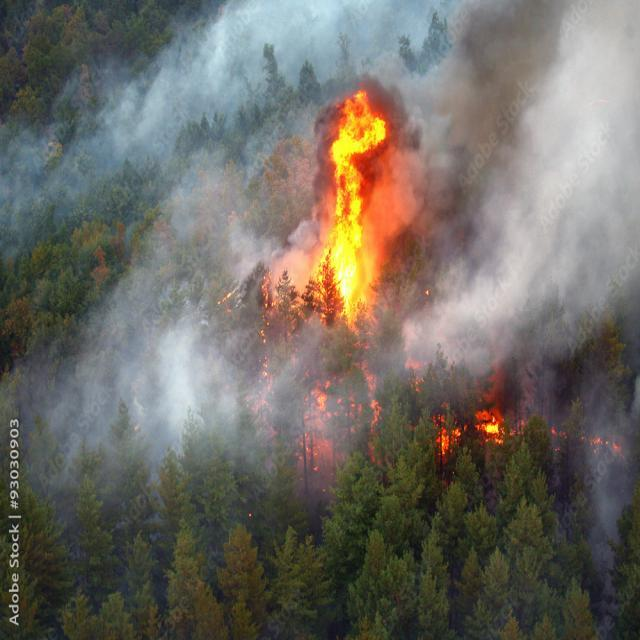Fire: (318, 83, 392, 333), (428, 400, 516, 459)
Smoke: (35, 0, 312, 481), (392, 1, 640, 392)
